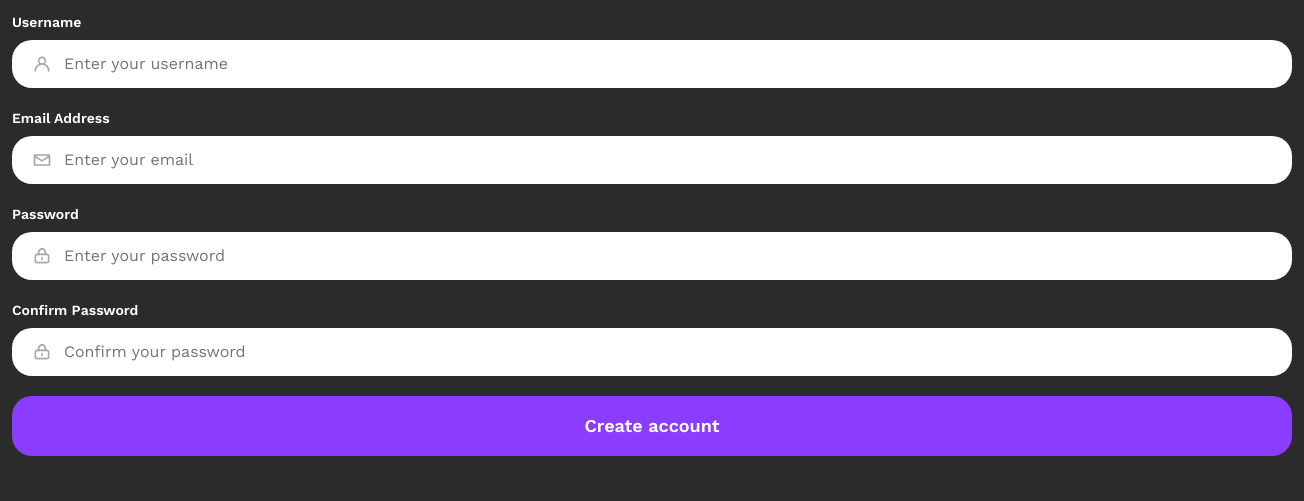
Test: CreateAccountForm › rejects a confirmation that does not match
This screenshot has width=1304, height=501.
Type "satoshi" into the field labelled "Username" at (668, 64), box [64,52,1272,76]
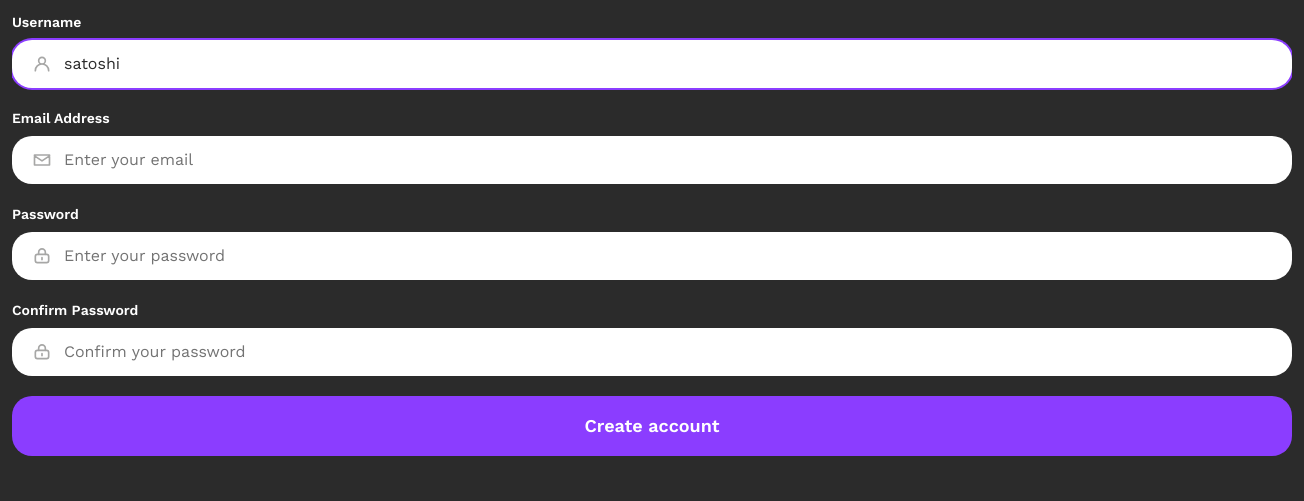
Type "satoshi@example.com" into the field labelled "Email Address" at (668, 160), box [64,148,1272,172]
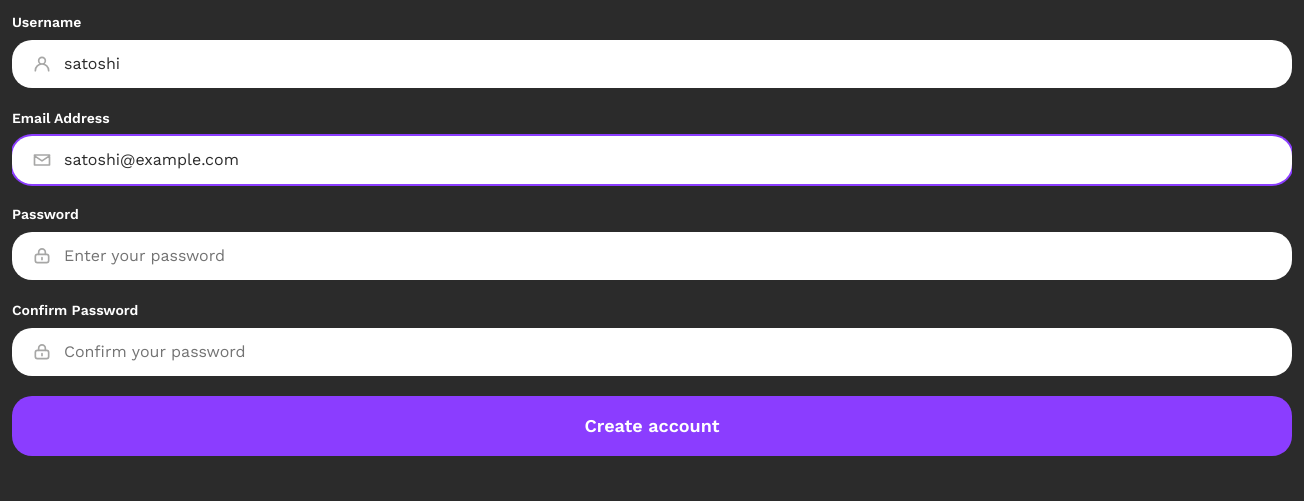
Type "correct-horse" into the password field labelled "Password" at (668, 256), box [64,244,1272,268]
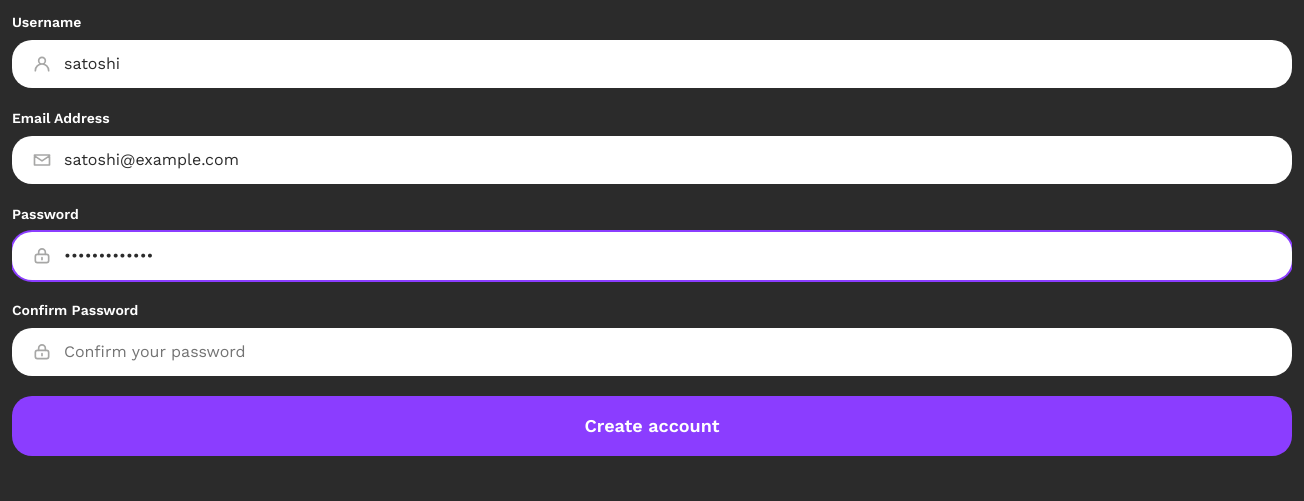
Type "something-else" into the password field labelled "Confirm Password" at (668, 352), box [64,340,1272,364]
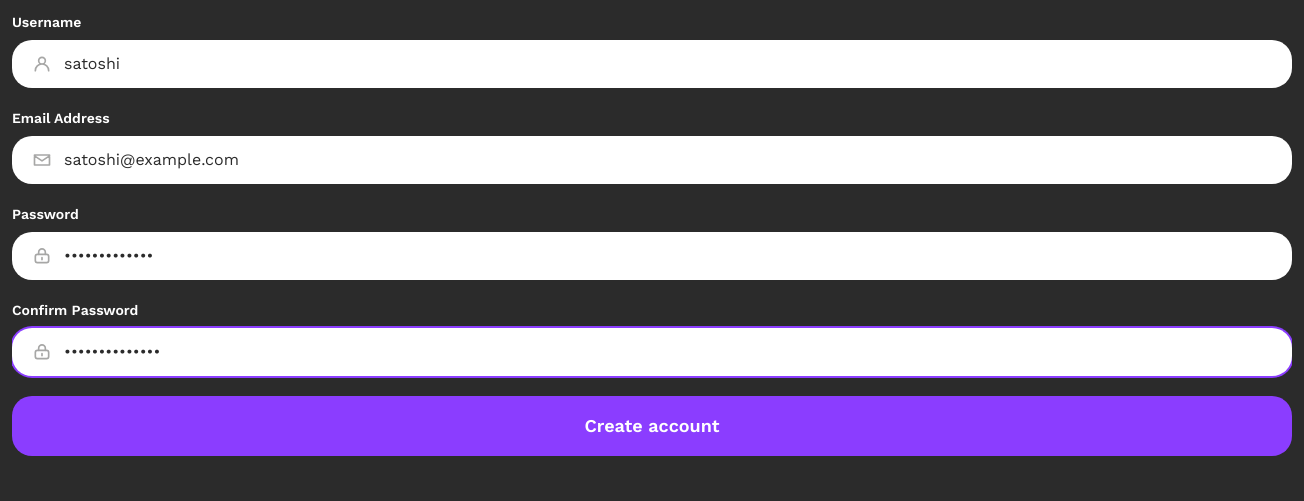
Click the button "Create account" at (652, 426), box [12,396,1292,456]
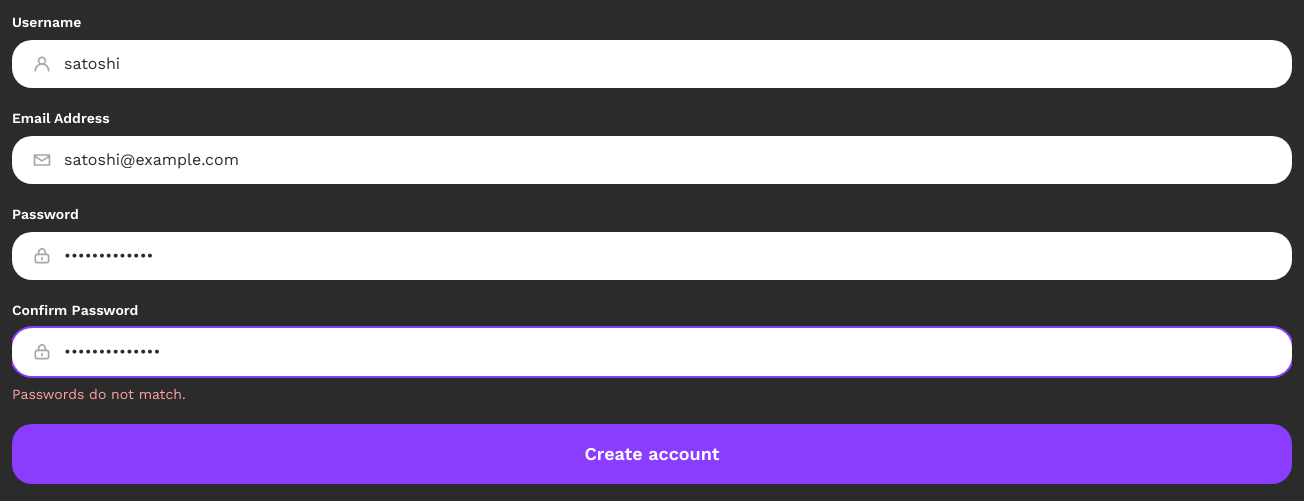
Result: the text "Passwords do not match." is shown at [12,386,186,402]
